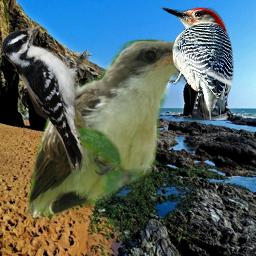Cuckoo: (24, 38, 206, 222)
Woodpecker: (1, 26, 94, 173), (157, 1, 237, 120)
